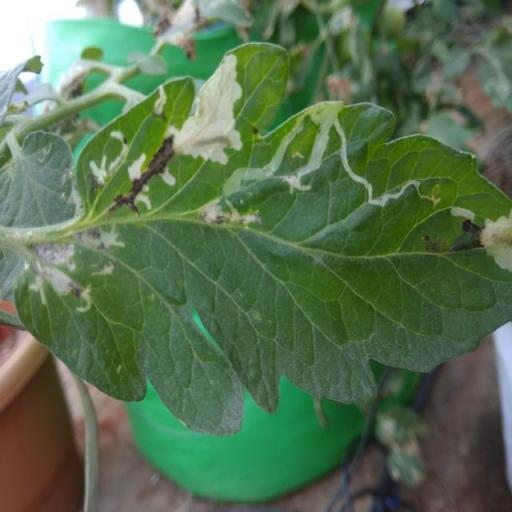disease_tomato: (10, 43, 512, 437)
